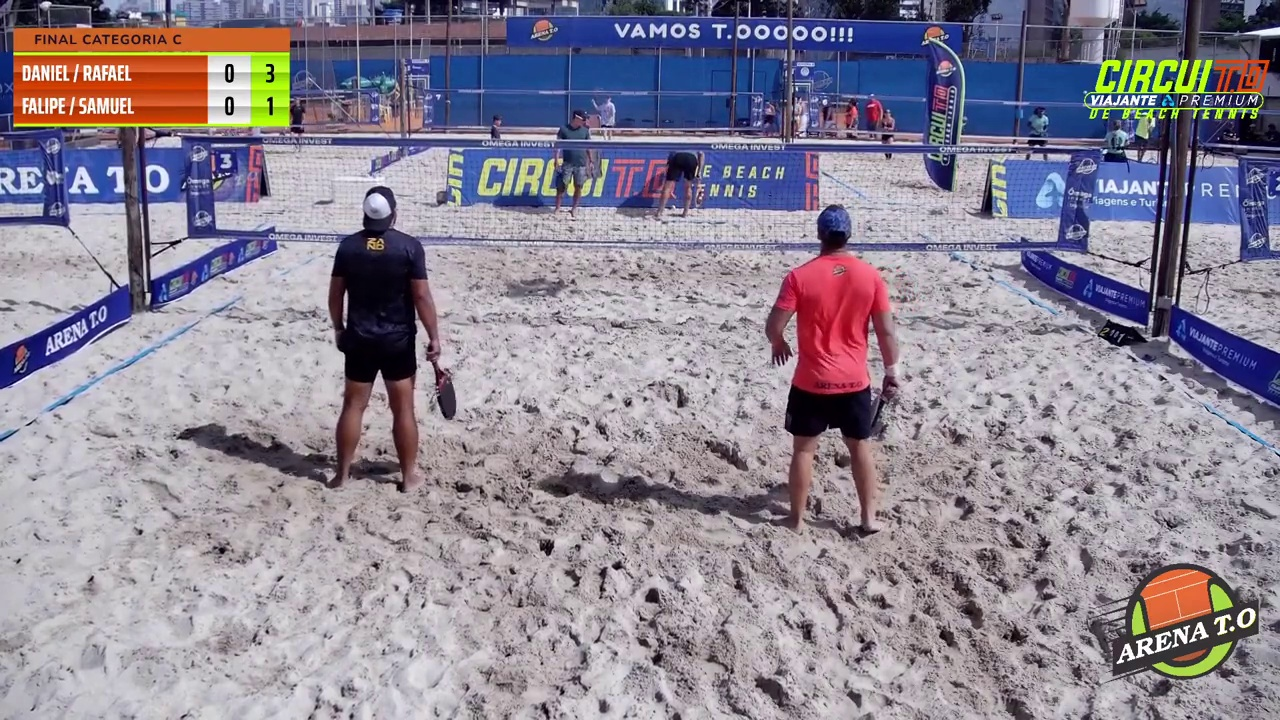court_line: (624, 0, 812, 525), (643, 0, 805, 424)
